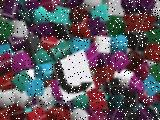Left: (52, 49, 96, 103)
